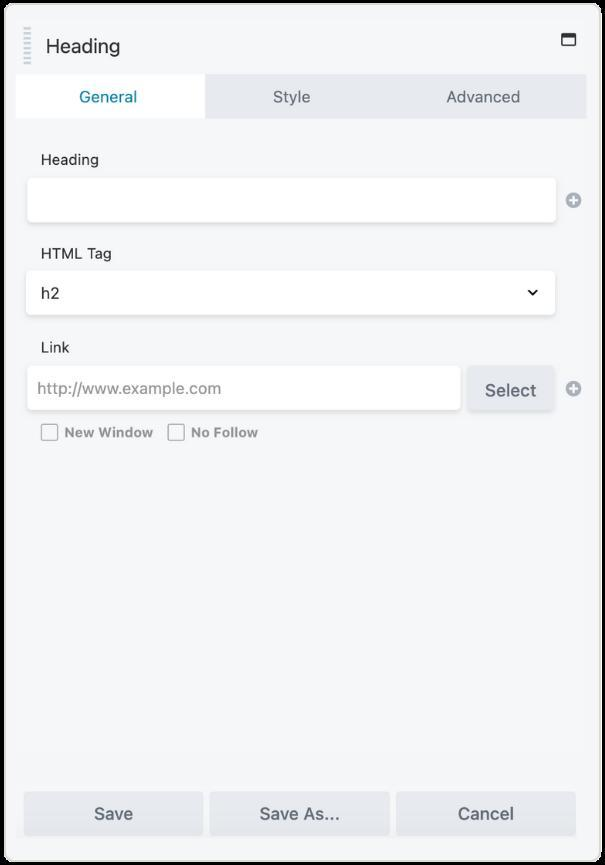button: (210, 788, 392, 842), (22, 788, 206, 841), (393, 787, 578, 839), (466, 364, 556, 416)
checkbox: (166, 422, 188, 444), (40, 422, 61, 444)
dropdown: (24, 266, 560, 320)
input: (23, 174, 562, 229), (24, 363, 464, 415)
label: (45, 36, 125, 62), (448, 87, 532, 109), (35, 245, 116, 262), (39, 150, 104, 171), (63, 428, 155, 442), (190, 426, 262, 440), (272, 89, 315, 108), (80, 92, 138, 106), (37, 341, 78, 358)
